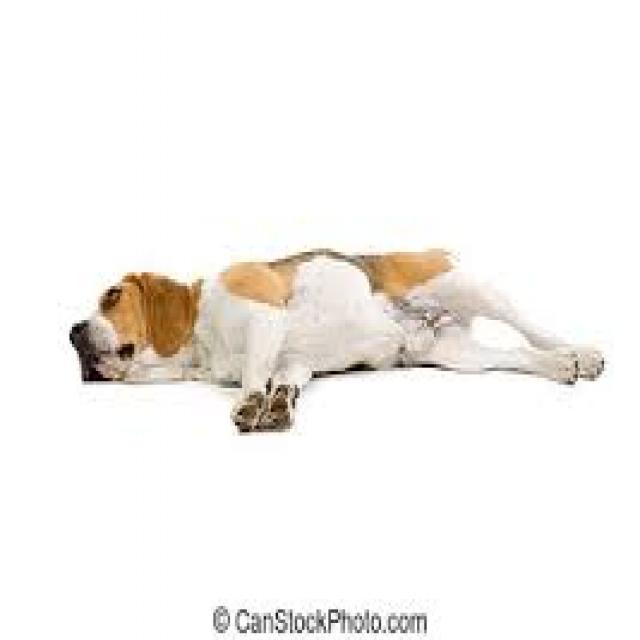Dog: (60, 239, 609, 442)
